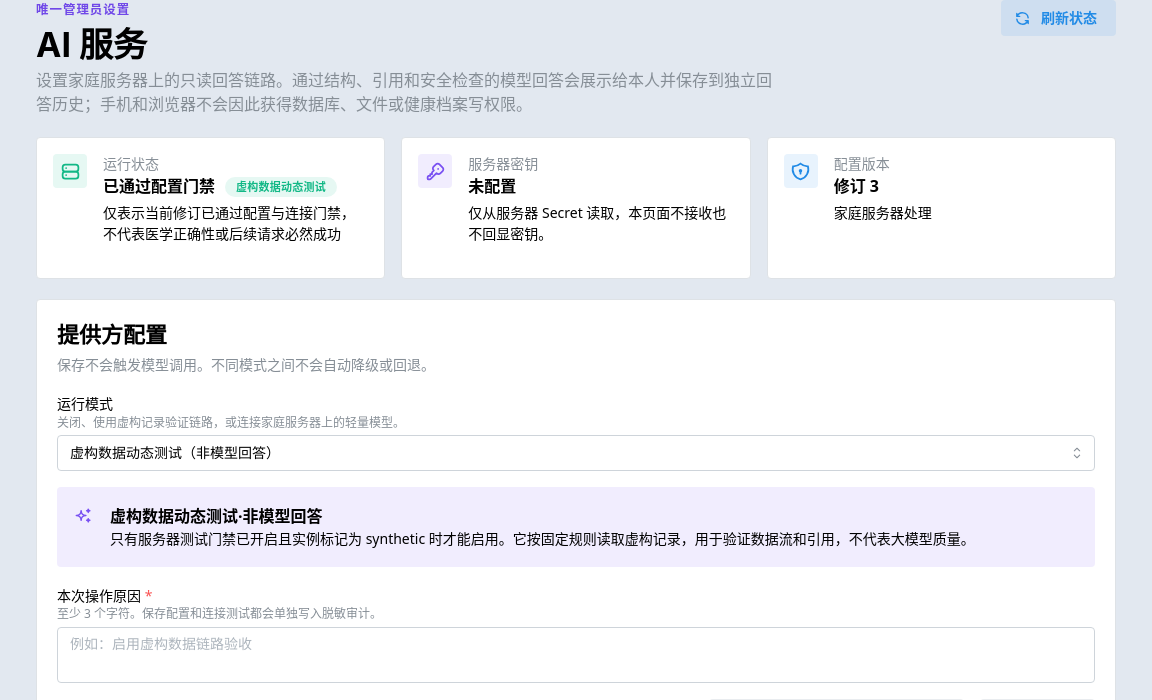
Scenario: AdminHealthAiSettingsPage › explains a disabled synthetic-test gate without exposing backend prose
Expected: the heading "AI 服务" is shown, 36,24 -> 147,65
Step 1. Type "验证门禁提示" into the text box labelled "本次操作原因 *" → [576, 655], box 57,627 -> 1095,683
(page scrolled)
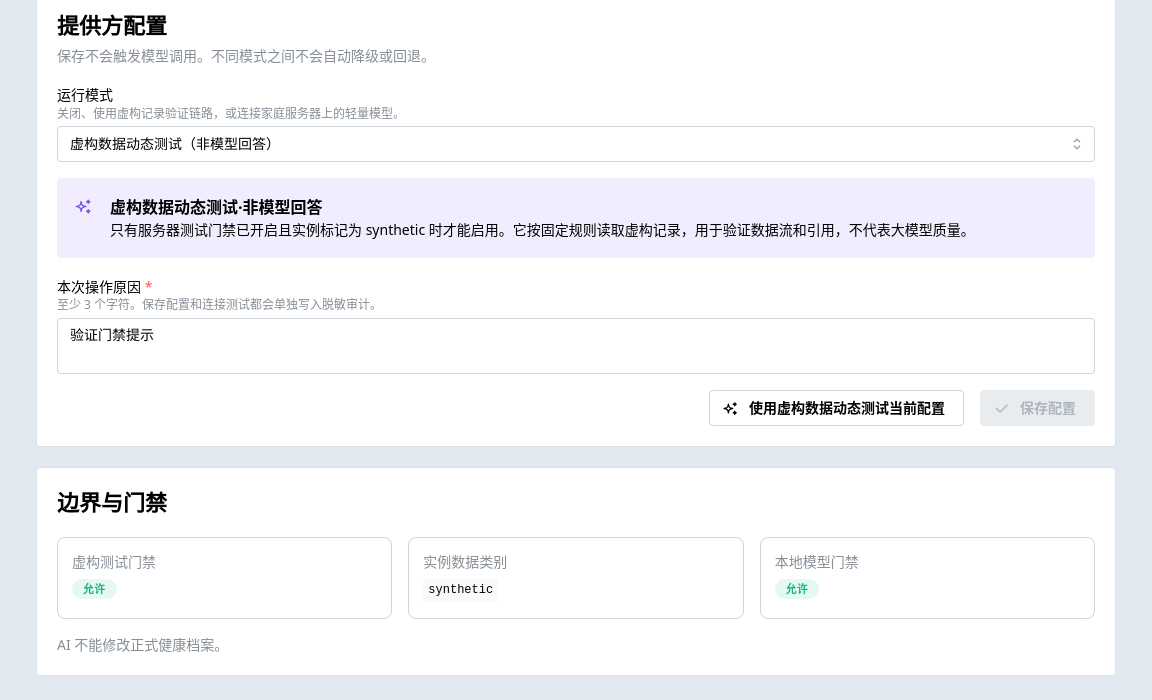
Step 2. Click the button "使用虚构数据动态测试当前配置" → [836, 408], box 709,390 -> 964,426
(page scrolled)
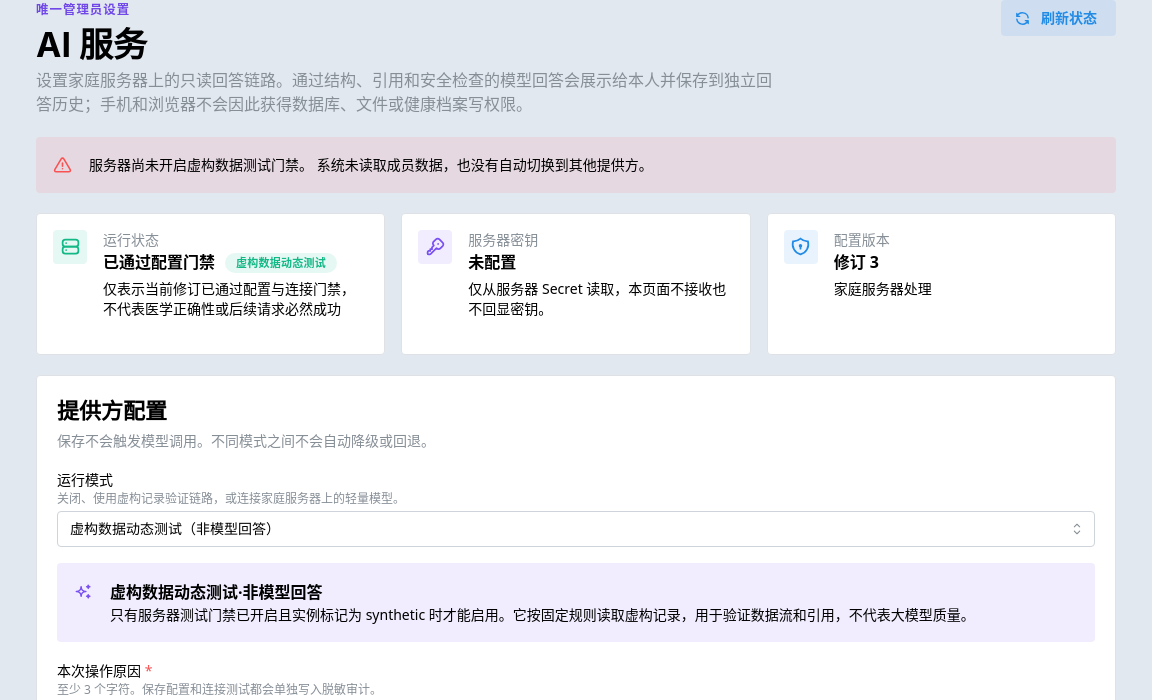
Expected: the text "服务器尚未开启虚构数据测试门禁。 系统未读取成员数据，也没有自动切换到其他提供方。" is shown, 89,155 -> 653,174
